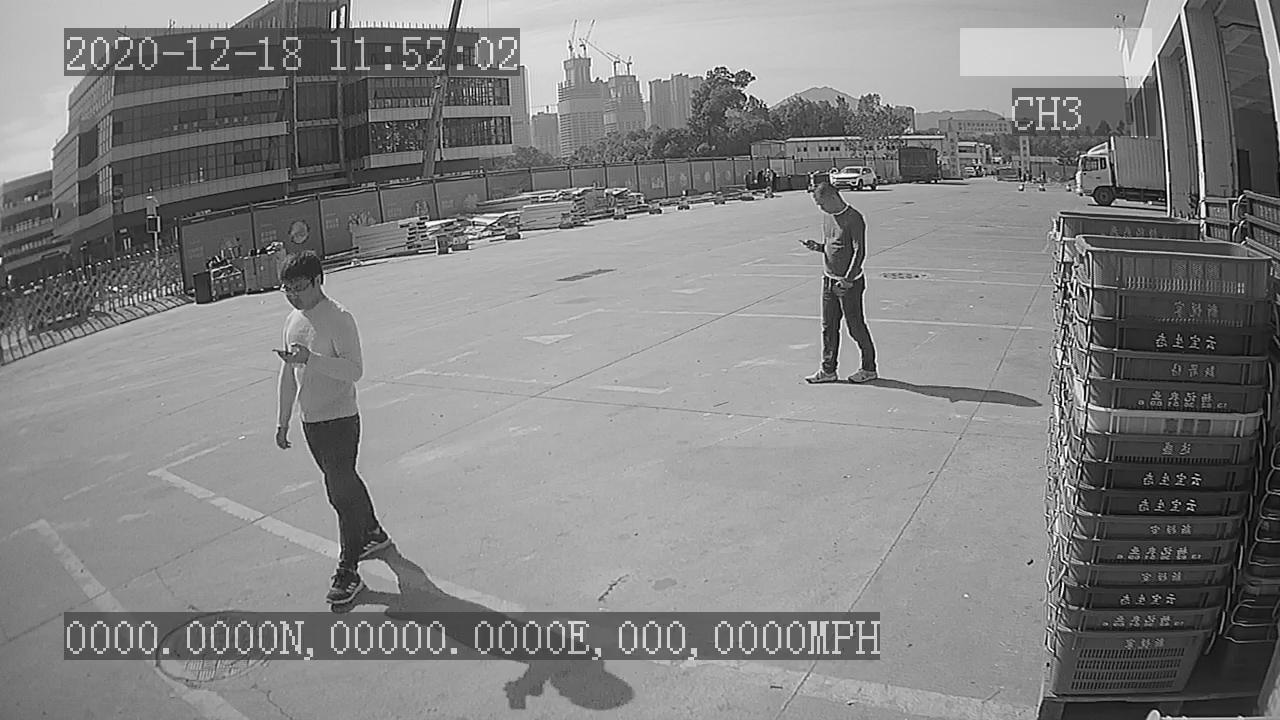person: (260, 242, 395, 610), (793, 174, 881, 394)
